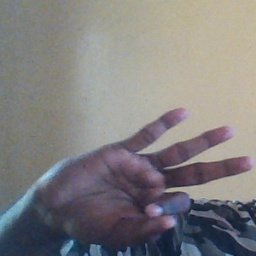K: (35, 108, 253, 241)
